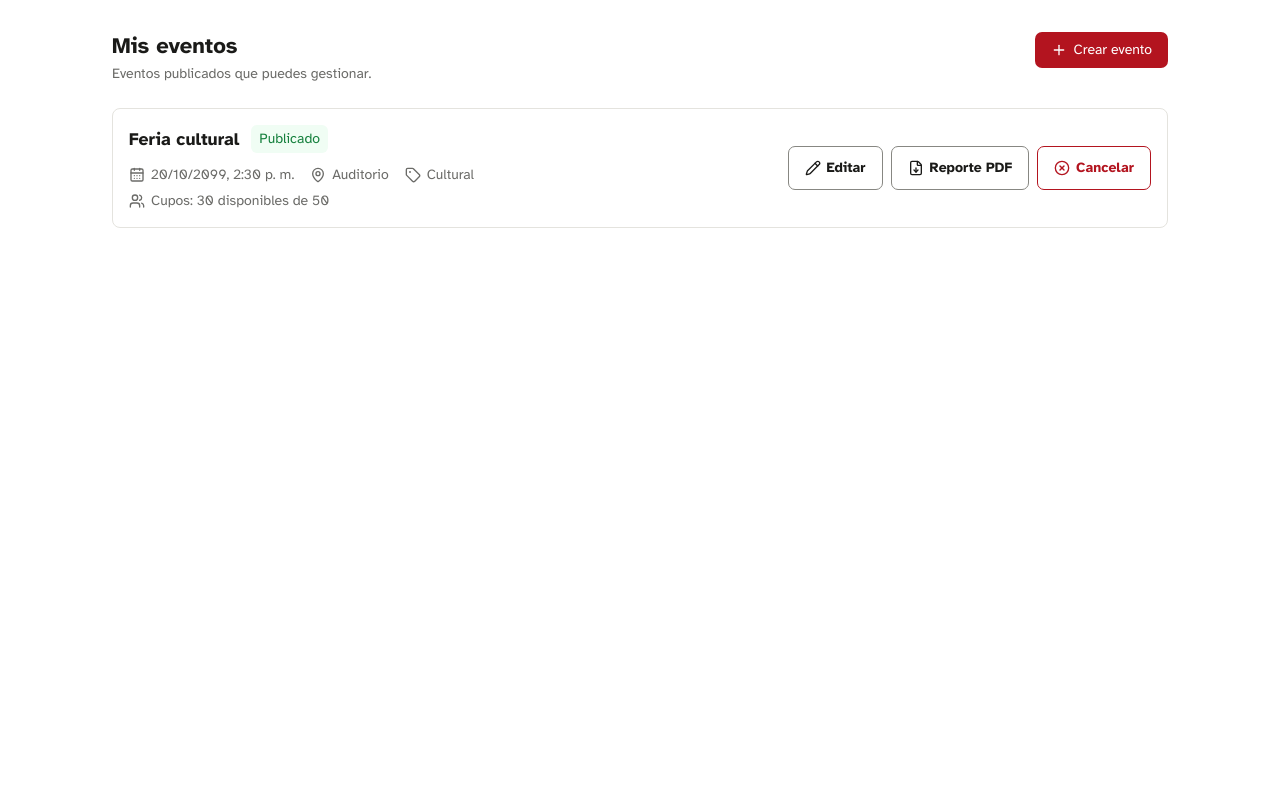
Scenario: MisEventos (HU-07) › conserva el diálogo y muestra el error si falla la cancelación
expect the heading "Feria cultural" is shown: met, box [129,127,239,151]
Click the button with aria-label "Cancelar evento Feria cultural" at (1094,168), box [1037,146,1151,190]
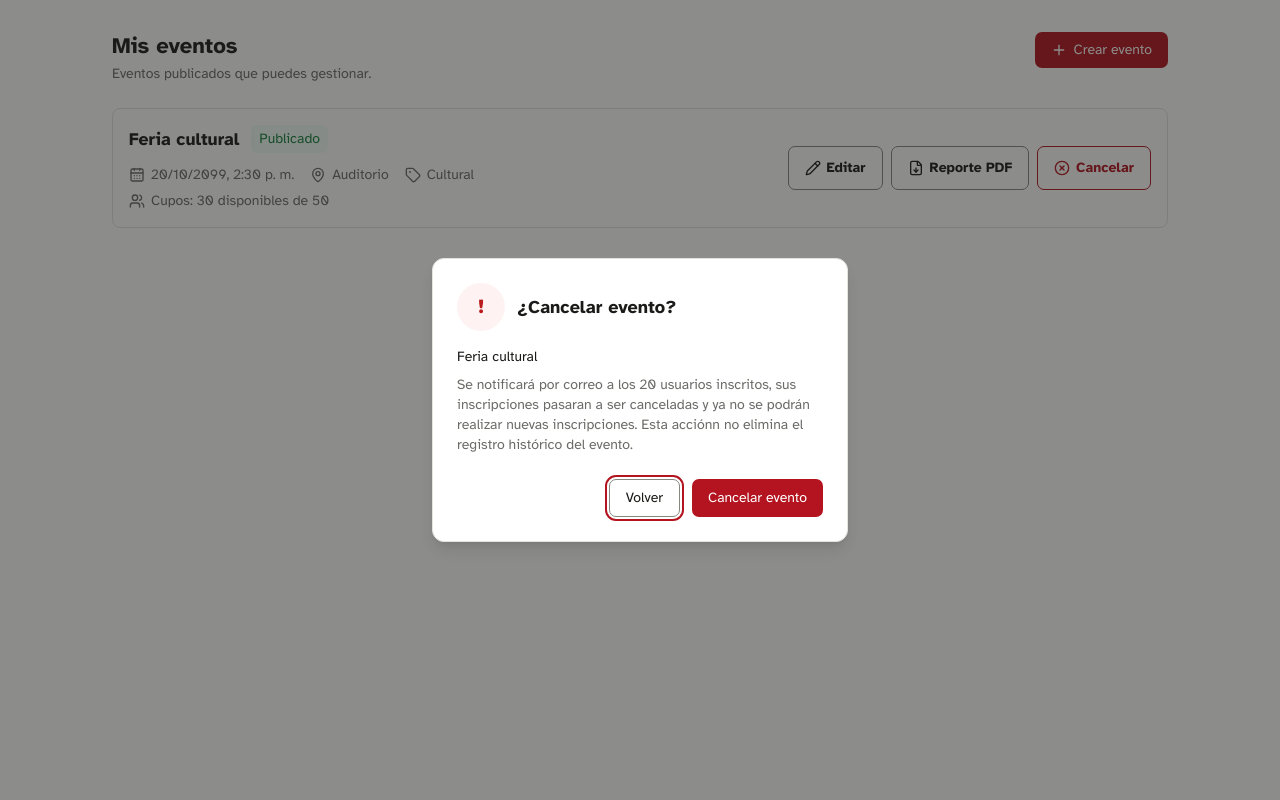
Click the button "Cancelar evento" at (758,498), box [692,479,823,517]
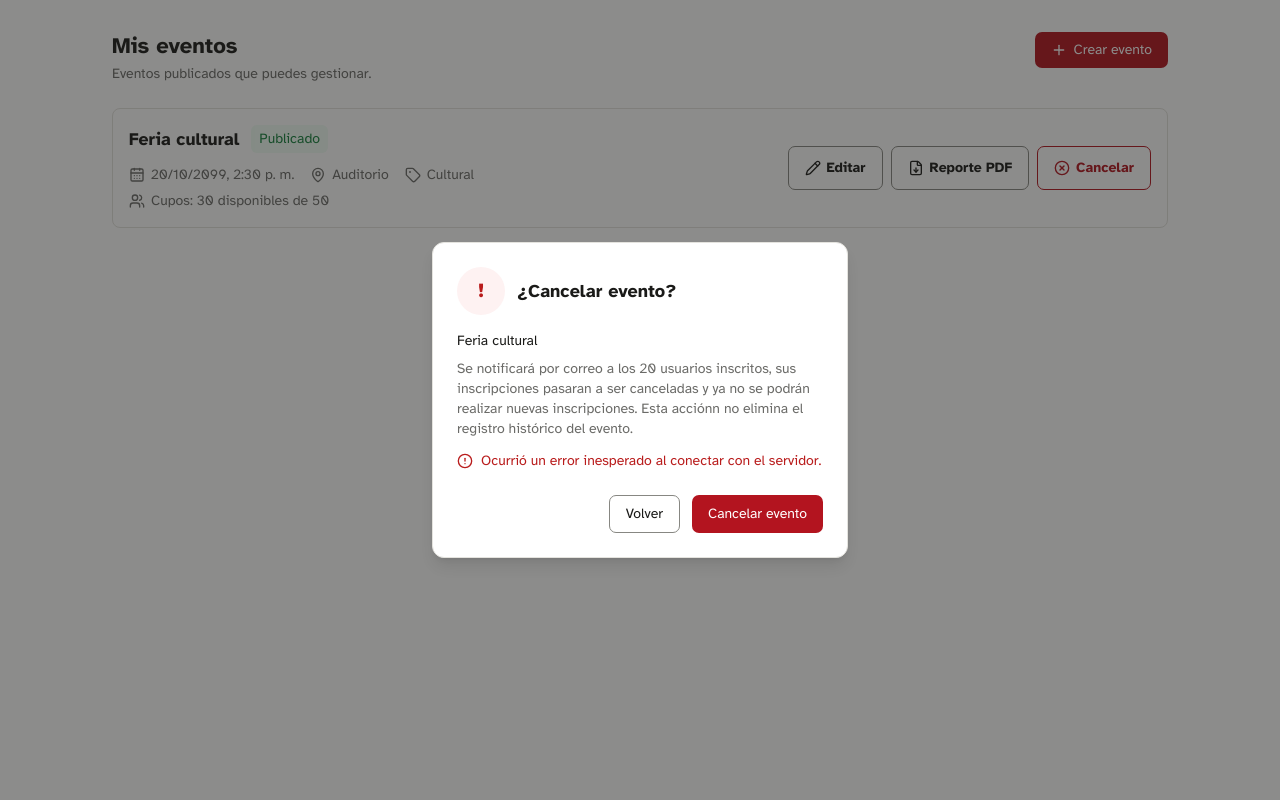
expect the 1st heading "Feria cultural" is shown: met, box [129,127,239,151]
expect the dialog is shown: met, box [432,242,848,558]
expect the message reads "Ocurrió un error inesperado al conectar con el servidor.": met, box [481,452,821,469]
